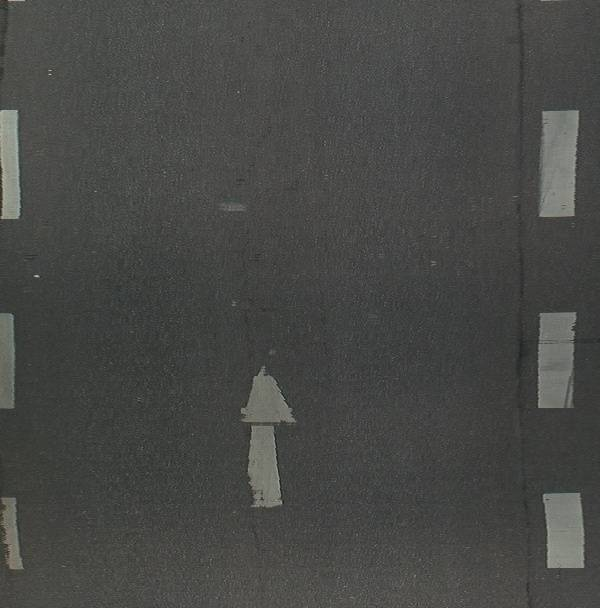road_damage: (240, 262, 263, 378)
